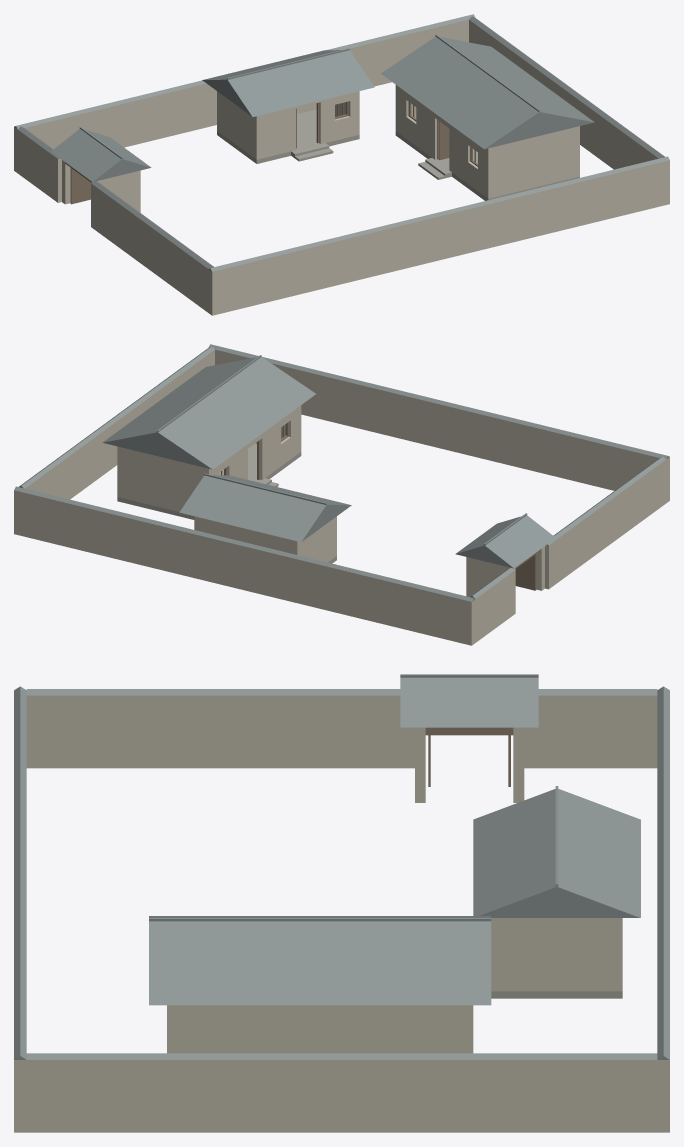
Rendered from C02-021.placed-roundtrip.glb.
3 renders of one model, top to bottom at view 1: azimuth 30°, elevation 25°; view 2: azimuth 150°, elevation 25°; view 3: azimuth 270°, elevation 25°, orthographic. The views are drawn at different scales.
Visible parts, largest first — view 1: architecture_C_whitebox_earth_wall.001, architecture_C_roof_rhythm_not_glaze_copy.001, architecture_C_floor_plinth.001, architecture_C_plain_timber.001; view 2: architecture_C_whitebox_earth_wall.001, architecture_C_roof_rhythm_not_glaze_copy.001, architecture_C_floor_plinth.001, architecture_C_plain_timber.001; view 3: architecture_C_whitebox_earth_wall.001, architecture_C_roof_rhythm_not_glaze_copy.001, architecture_C_plain_timber.001, architecture_C_floor_plinth.001.
Boxes of the visible parts, x1=… form: architecture_C_whitebox_earth_wall.001: x1=14, y1=19, x2=669, y2=315; architecture_C_roof_rhythm_not_glaze_copy.001: x1=14, y1=14, x2=669, y2=271; architecture_C_floor_plinth.001: x1=217, y1=109, x2=579, y2=200; architecture_C_plain_timber.001: x1=65, y1=101, x2=477, y2=204; architecture_C_whitebox_earth_wall.001: x1=14, y1=349, x2=669, y2=645; architecture_C_roof_rhythm_not_glaze_copy.001: x1=14, y1=344, x2=669, y2=601; architecture_C_floor_plinth.001: x1=117, y1=443, x2=336, y2=563; architecture_C_plain_timber.001: x1=221, y1=422, x2=541, y2=590; architecture_C_whitebox_earth_wall.001: x1=14, y1=695, x2=669, y2=1132; architecture_C_roof_rhythm_not_glaze_copy.001: x1=14, y1=674, x2=669, y2=1059; architecture_C_plain_timber.001: x1=425, y1=727, x2=513, y2=786; architecture_C_floor_plinth.001: x1=491, y1=991, x2=622, y2=998.
Size of the model in its own units: 24.15 by 4.29 by 18.
